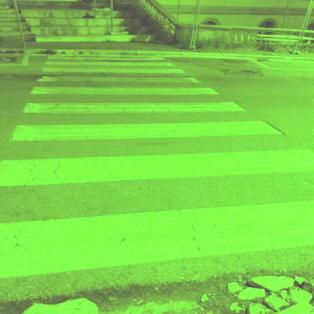Paso de Cebra: (0, 148, 314, 278), (20, 85, 250, 116)
